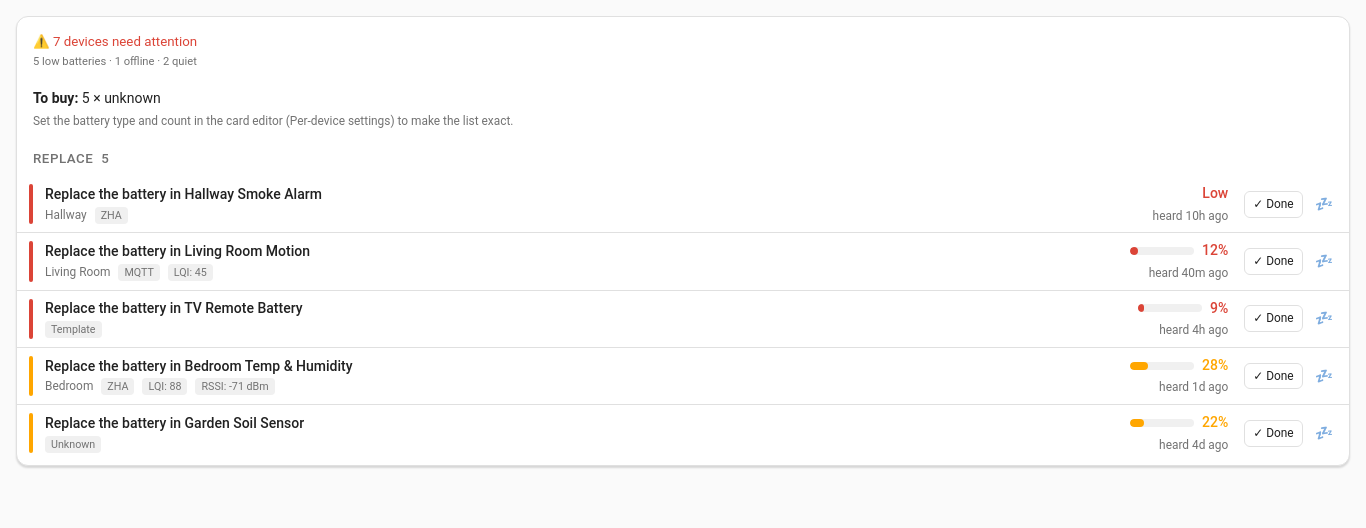
Scenario: App, when a row action fails › says so when the undo is refused
Expected: the text "To buy:" is shown, [33, 90, 78, 106]
Click the button with aria-label "Mark Living Room Motion done" at (1274, 262), box [1244, 248, 1303, 275]
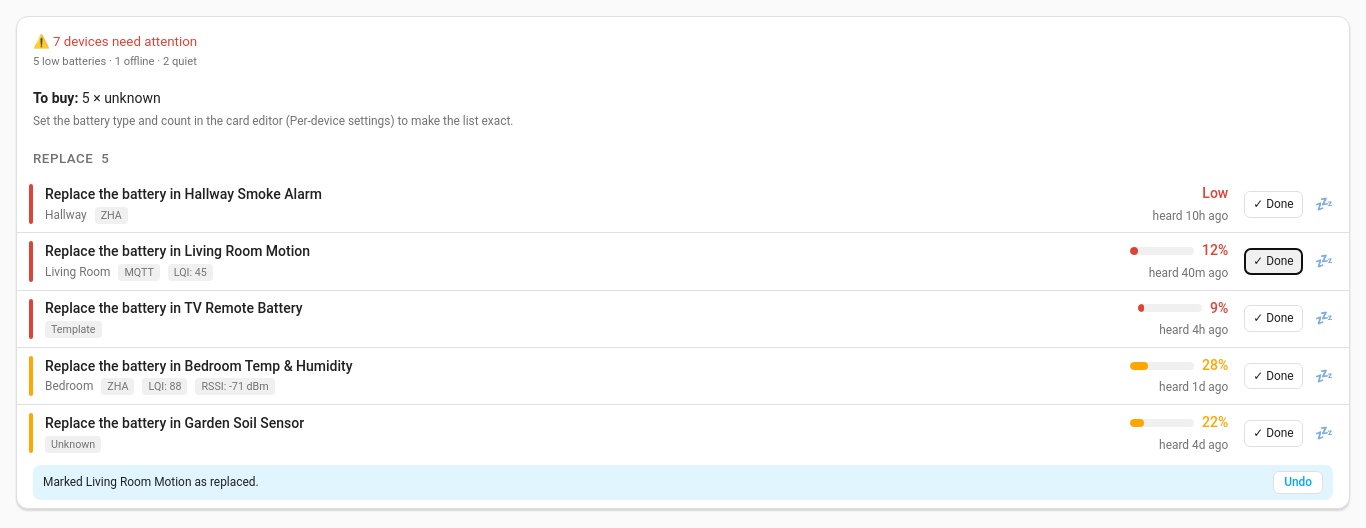
Expected: the text "Marked Living Room Motion as replaced." is shown, [43, 474, 259, 491]
Click the button "Undo" at (1298, 483), box [1273, 471, 1323, 494]
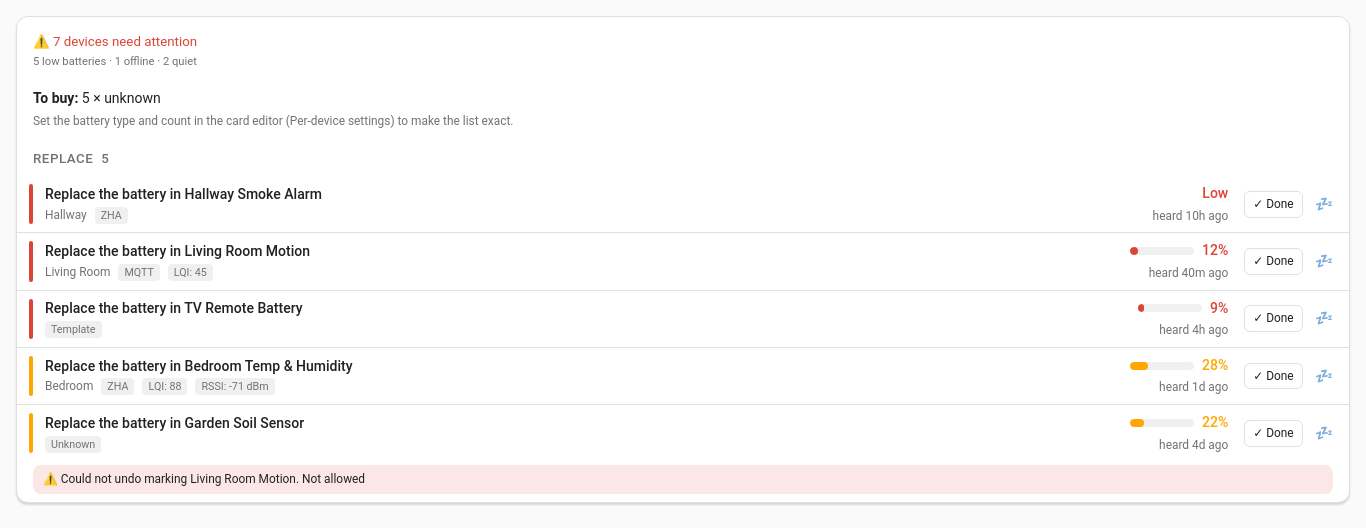
Expected: the message shows "Could not undo marking Living Room Motion. Not allowed", [33, 465, 1333, 494]
